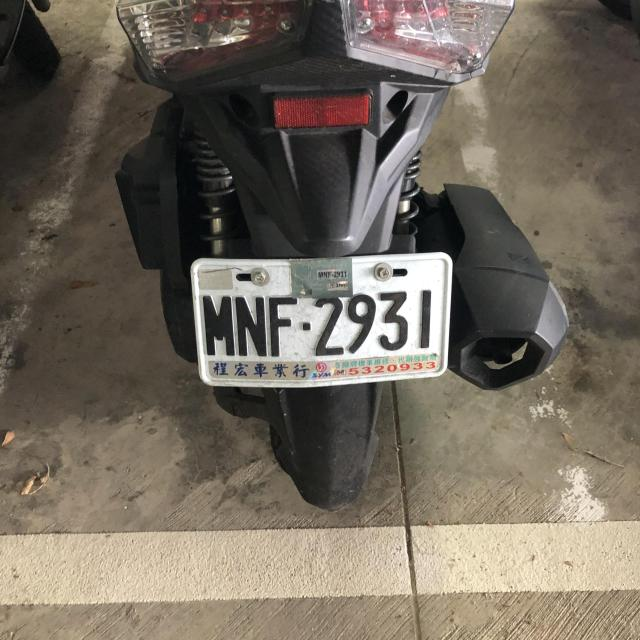W: (186, 249, 454, 393)
